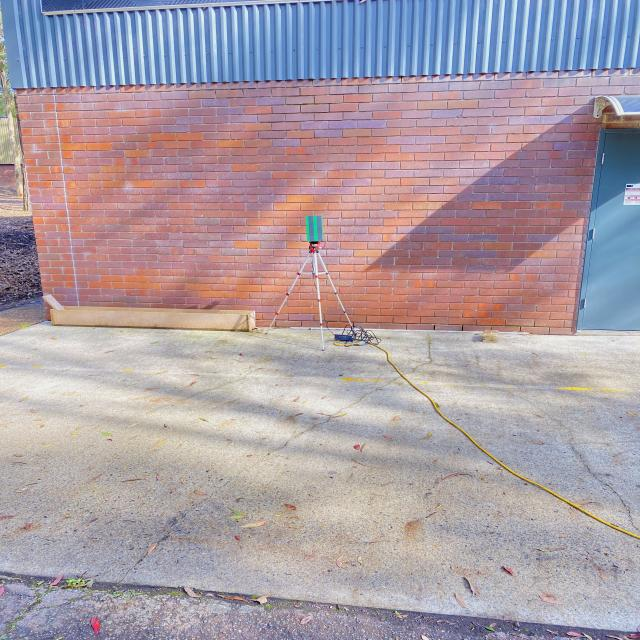matrix: (305, 215, 325, 242)
